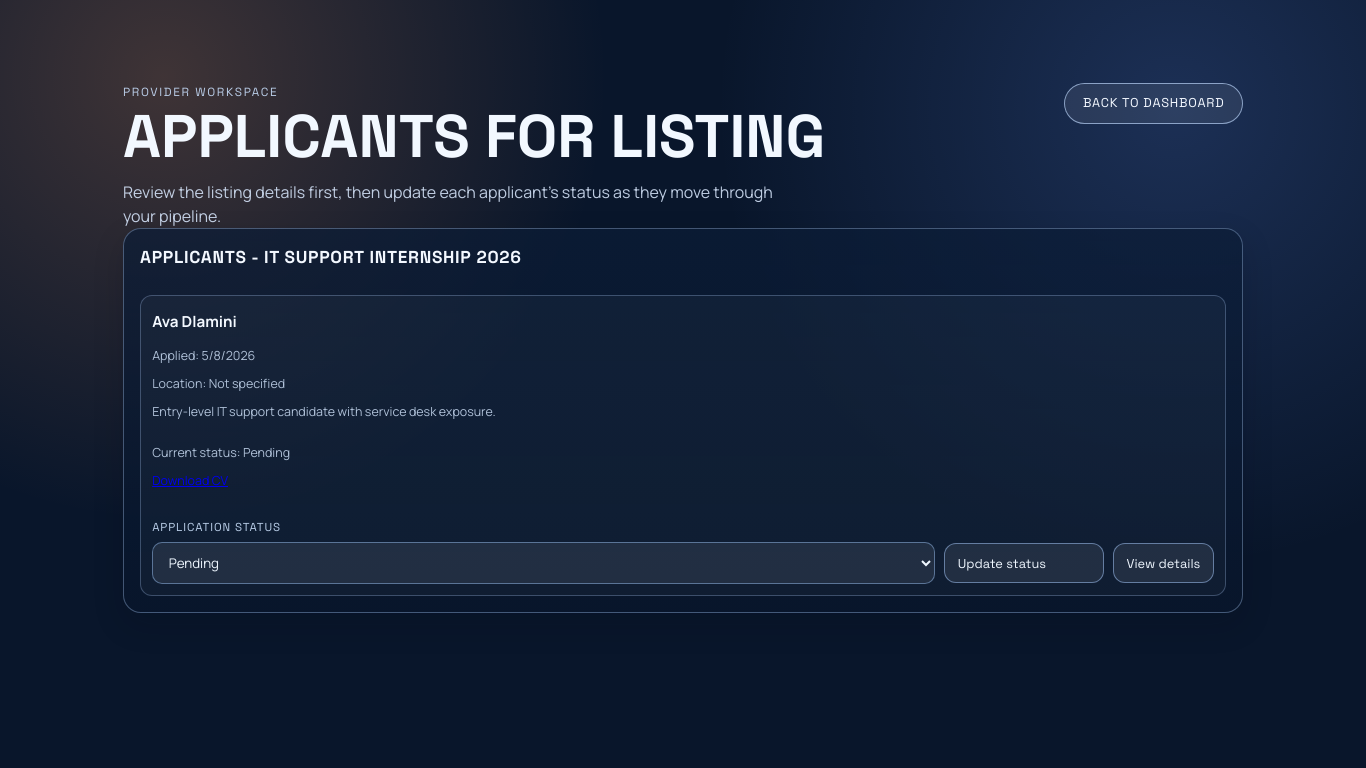
Provider manage application statuses acceptance tests › 6. If the email function fails, the applicant still gets an in-app notification fallback
The image size is (1366, 768).
Expected: the text "Ava Dlamini" is shown, [152,311,237,332]
Select "Accepted" in the dropdown named "Application status for Ava Dlamini": (544, 563) [152,542,936,584]
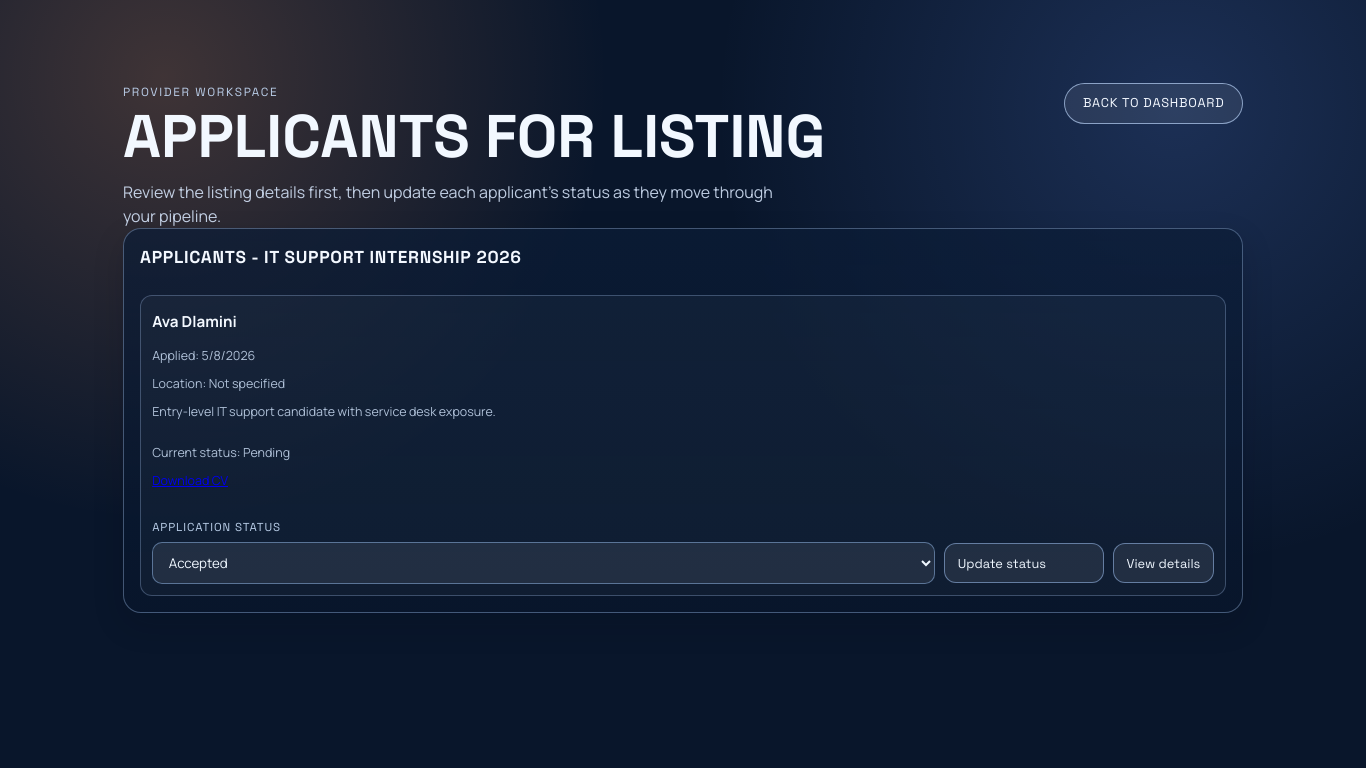
Click the button "Update status": (1024, 563) [944,543,1104,583]
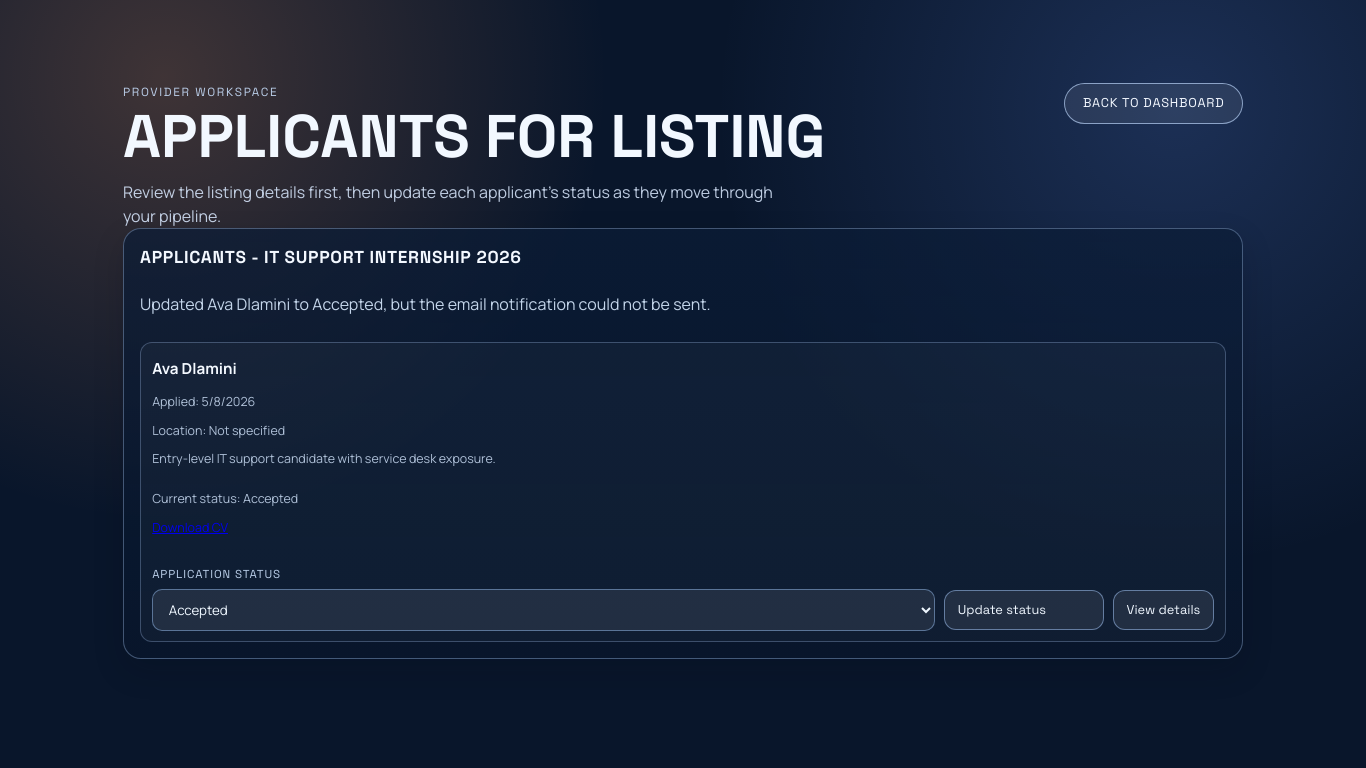
Result: the text "Updated Ava Dlamini to Accepted, but the email notification could not be sent." is shown at [140,293,711,315]
